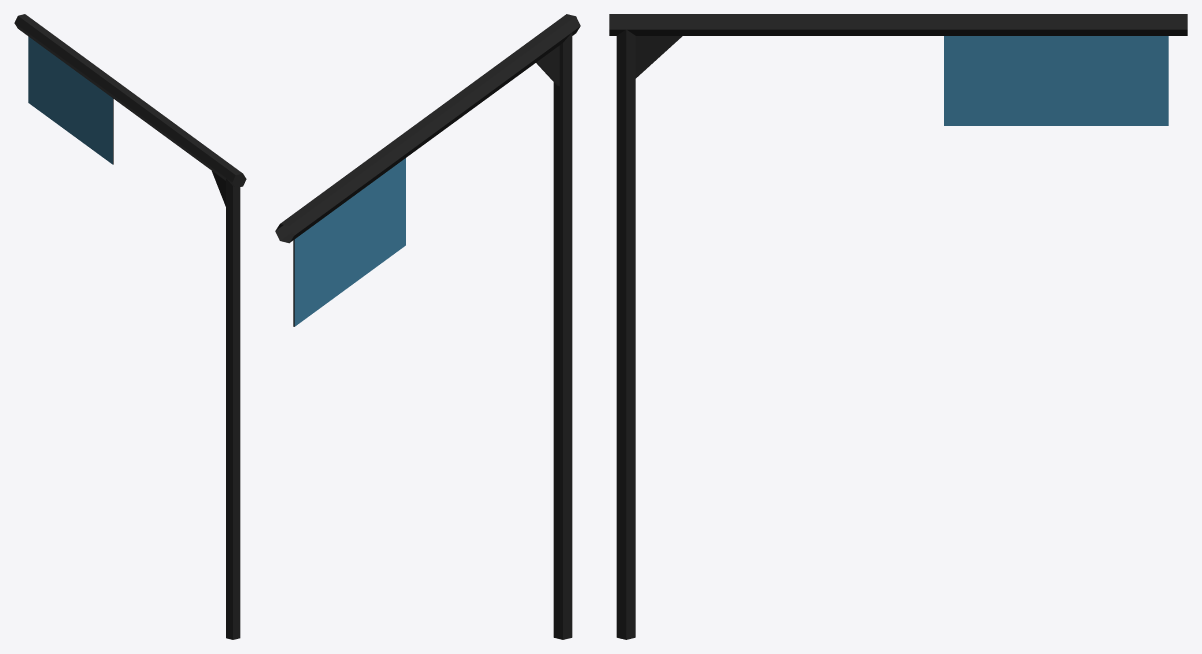
Rendered from sign_station.fbx.
3 views of the same model, side by side, from view 1: azimuth 30°, elevation 25°; view 2: azimuth 150°, elevation 25°; view 3: azimuth 270°, elevation 25° (orthographic). The views are drawn at different scales.
Visible parts, largest first — view 1: Sign_Station; view 2: Sign_Station; view 3: Sign_Station.
Part boxes in pixels (left/top/right/bottom): Sign_Station: left=14, top=14, right=246, bottom=639; Sign_Station: left=275, top=14, right=580, bottom=639; Sign_Station: left=609, top=14, right=1187, bottom=639.
Size of the model in its own units: 0.1514 by 4.71 by 3.99.
